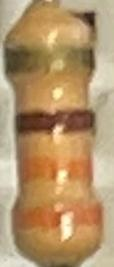Brown: (14, 106, 98, 134)
Orange: (13, 203, 105, 231), (17, 156, 95, 185)
Side-Gold: (3, 43, 96, 78)
